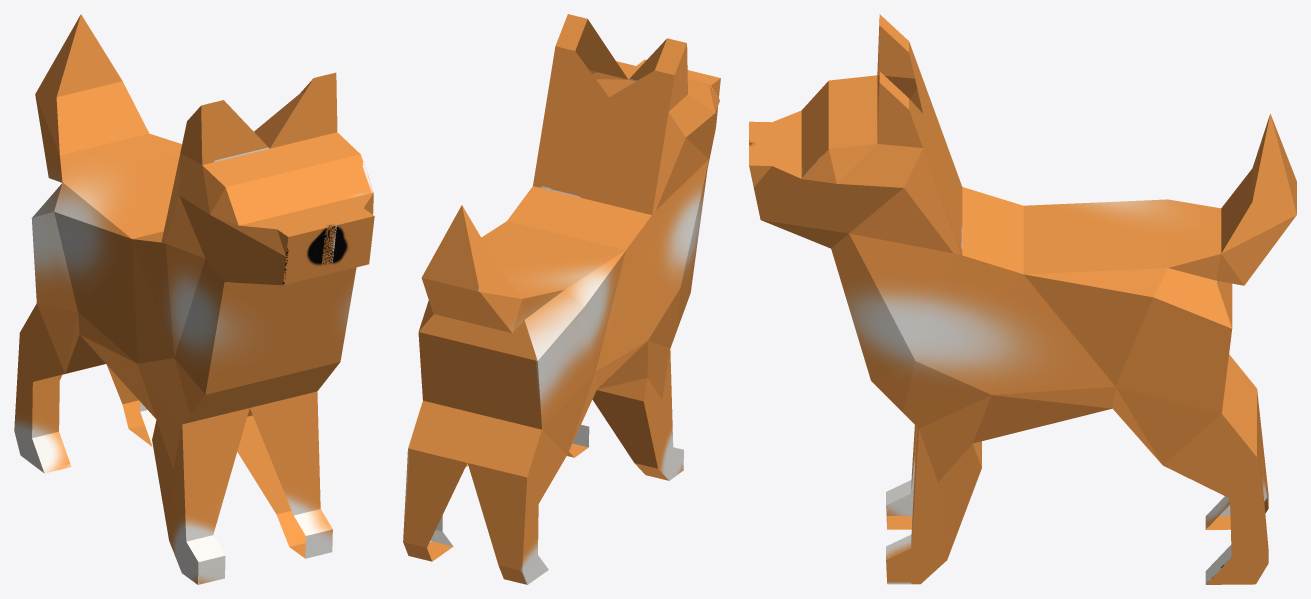
Rendered from dog.glb.
3 views of the same model, side by side, from view 1: azimuth 30°, elevation 25°; view 2: azimuth 150°, elevation 25°; view 3: azimuth 270°, elevation 25° (orthographic). The views are drawn at different scales.
Visible parts, largest first — view 1: Cube; view 2: Cube; view 3: Cube.
Part boxes in pixels (bbox=[...]): Cube: bbox=[14, 14, 374, 584]; Cube: bbox=[403, 14, 720, 584]; Cube: bbox=[749, 14, 1296, 584].
Bounding box in the file's own units: 0.6806 × 1.89 × 1.87.
Materials: 1 (1 with a texture image).
